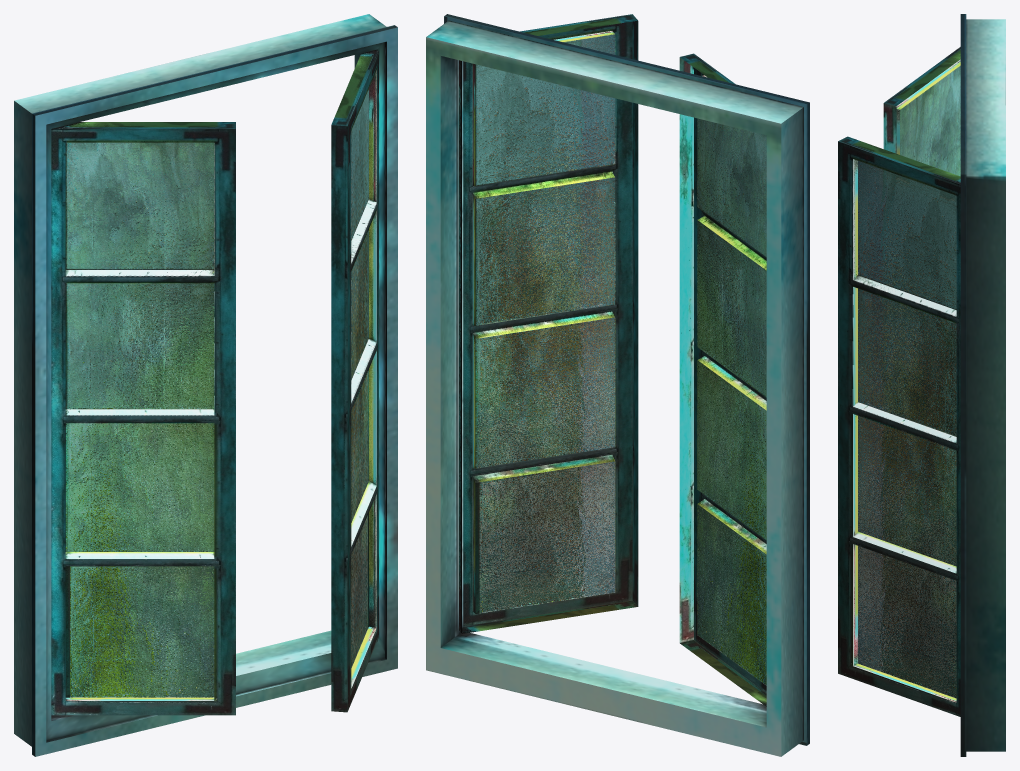
The model's file is janela.fbx.
3 views of the same model, side by side, from view 1: azimuth 30°, elevation 25°; view 2: azimuth 150°, elevation 25°; view 3: azimuth 270°, elevation 25° (orthographic). The views are drawn at different scales.
Visible parts, largest first — view 1: Object_6.001, Object_7, Object_16, Object_17, Object_5; view 2: Object_7, Object_5, Object_6.001, Object_17, Object_16; view 3: Object_5, Object_7, Object_17, Object_6.001, Object_16.
Part boxes in pixels (<box>): Object_6.001: <box>65,142,214,697</box>; Object_7: <box>14,14,397,756</box>; Object_16: <box>51,122,235,715</box>; Object_17: <box>331,50,378,712</box>; Object_5: <box>351,89,368,667</box>; Object_7: <box>426,14,809,756</box>; Object_5: <box>475,34,615,613</box>; Object_6.001: <box>697,118,766,685</box>; Object_17: <box>459,14,638,633</box>; Object_16: <box>679,53,766,706</box>; Object_5: <box>858,161,956,698</box>; Object_7: <box>960,14,1005,756</box>; Object_17: <box>838,136,960,716</box>; Object_6.001: <box>900,65,960,176</box>; Object_16: <box>883,47,960,154</box>.
Bounding box in the file's own units: 101 × 170 × 44.37.
Materials: 5 (5 with a texture image).
